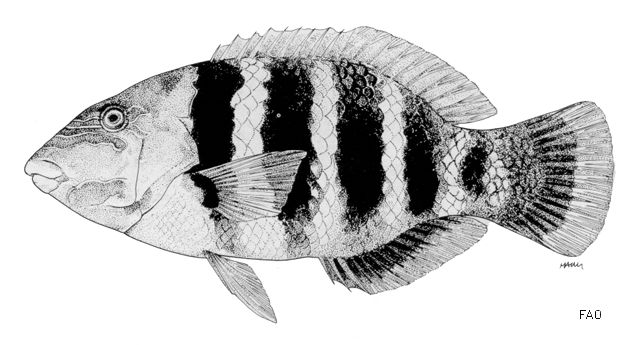fish: (22, 25, 616, 324)
